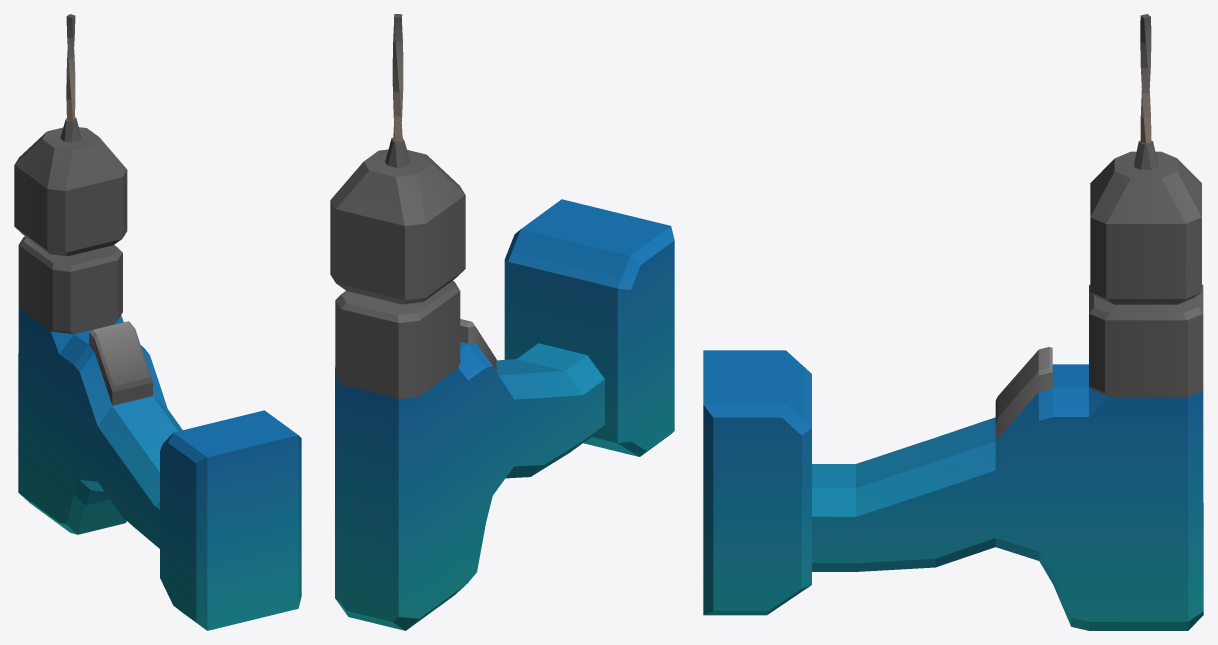
Rendered from drill.fbx.
The picture shows the model from 3 angles, left to right: view 1: azimuth 30°, elevation 25°; view 2: azimuth 150°, elevation 25°; view 3: azimuth 270°, elevation 25°; orthographic projection. The views are drawn at different scales.
Parts seen in each view (by area): view 1: Drill_Tools_Mat_0; view 2: Drill_Tools_Mat_0; view 3: Drill_Tools_Mat_0.
Boxes of the visible parts, x1,y1,x2,y2 form: Drill_Tools_Mat_0: (14,14,301,630); Drill_Tools_Mat_0: (330,14,674,630); Drill_Tools_Mat_0: (703,14,1203,630).
Bounding box in the file's own units: 831 × 3731 × 2816.
Materials: 1 (1 with a texture image).
